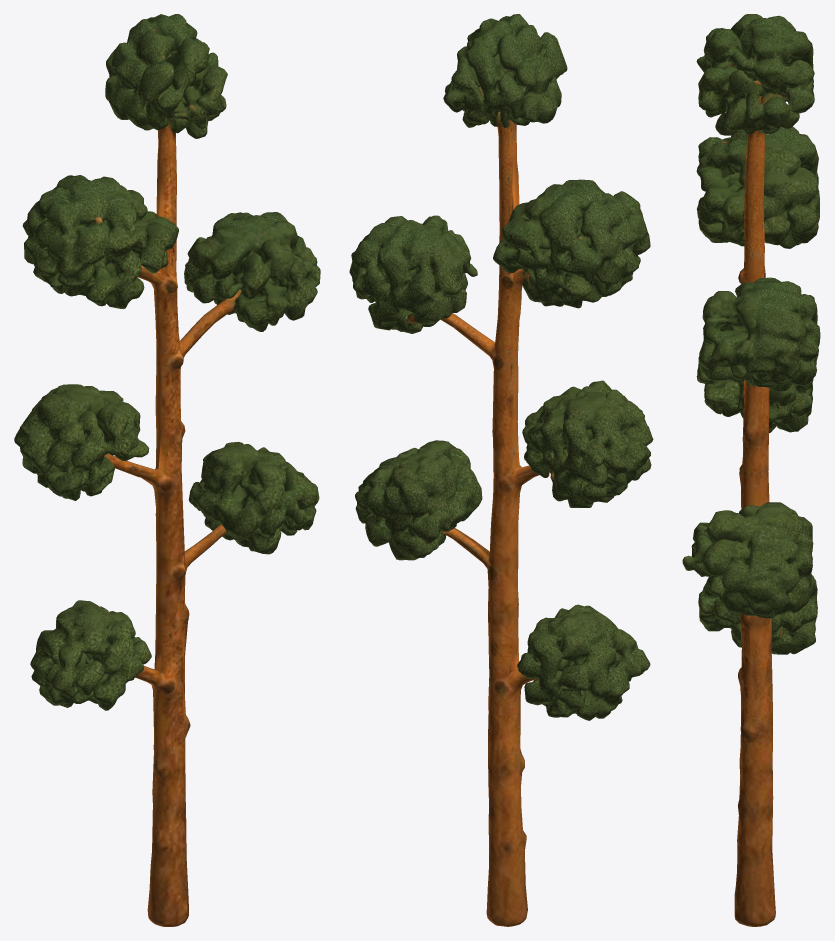
File: pino_joven.glb
3 views of the same model, side by side, from view 1: azimuth 30°, elevation 25°; view 2: azimuth 150°, elevation 25°; view 3: azimuth 270°, elevation 25° (orthographic).
Visible parts, largest first — view 1: aligerado; view 2: aligerado; view 3: aligerado.
Part boxes in pixels (x1=…): aligerado: x1=14, y1=14, x2=320, y2=926; aligerado: x1=349, y1=14, x2=653, y2=926; aligerado: x1=682, y1=14, x2=820, y2=926.
Size of the model in its own units: 1.32 by 4 by 0.5539.
1 material, 1 textured.
